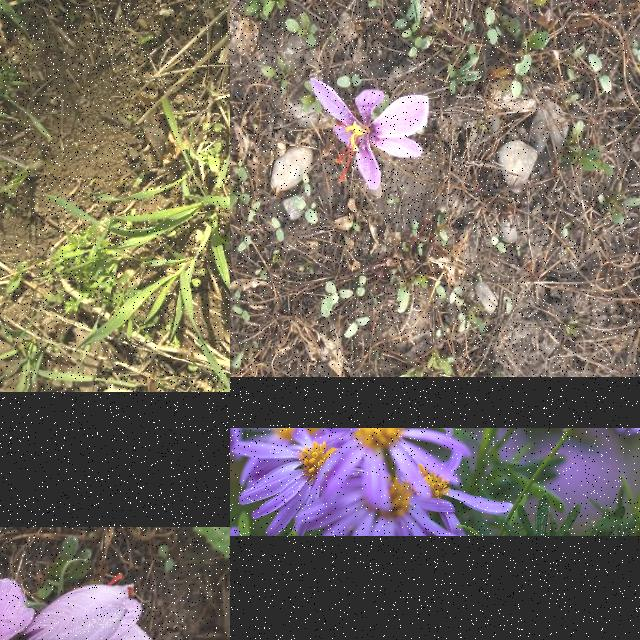flower: (312, 79, 428, 191), (11, 573, 142, 640)
overlap: (0, 562, 153, 640)
